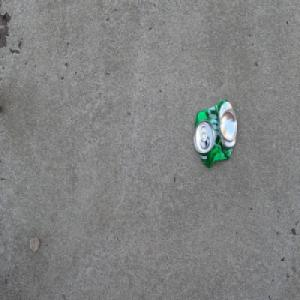SodaCan: (191, 99, 236, 169)
